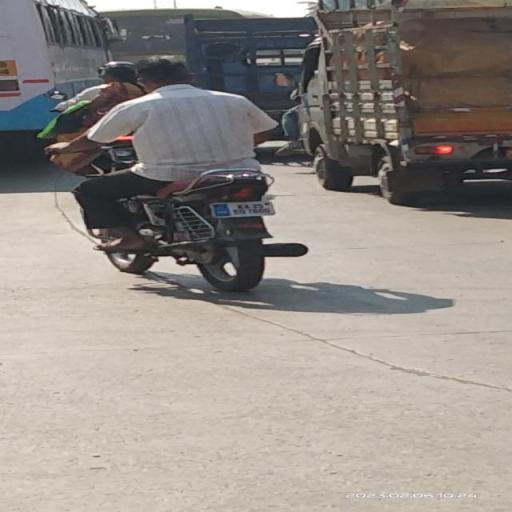bike: (52, 55, 310, 297)
numberplate: (209, 197, 274, 218)
withouthelmet: (136, 60, 190, 87)
